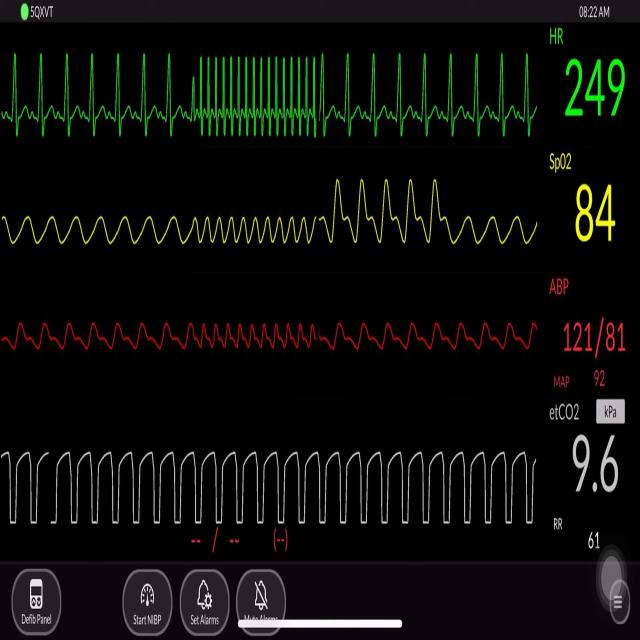danger: (196, 47, 322, 146)
